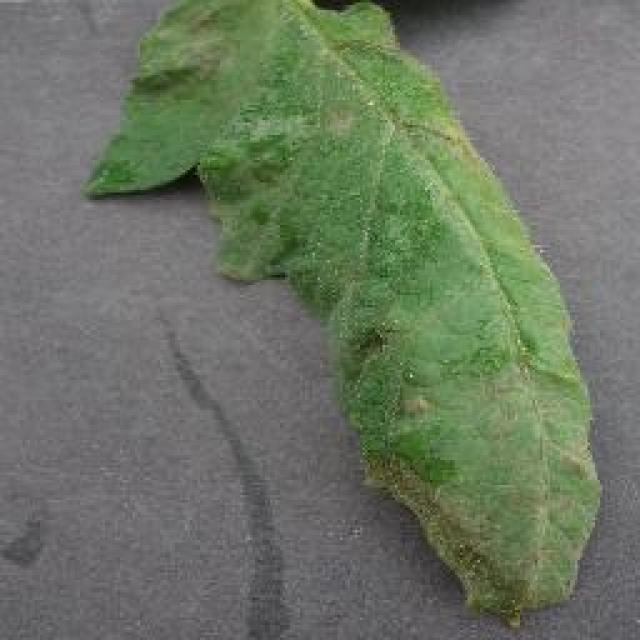Tomato late blight leaf: (90, 2, 600, 622)
